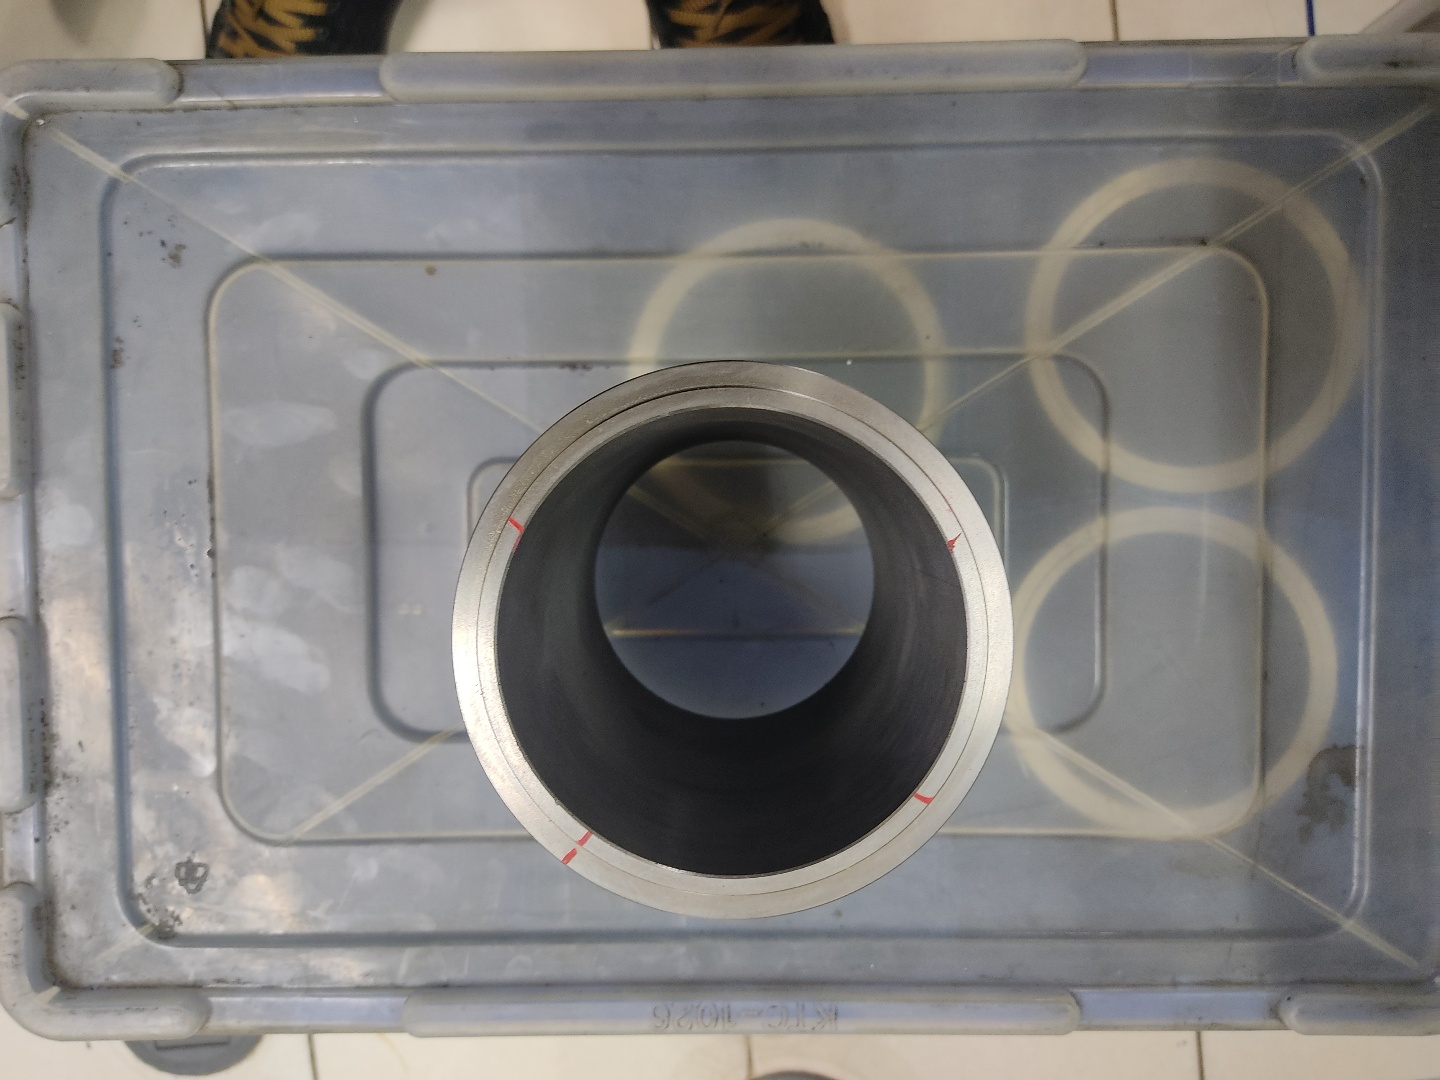cylinder: (443, 352, 1022, 928)
